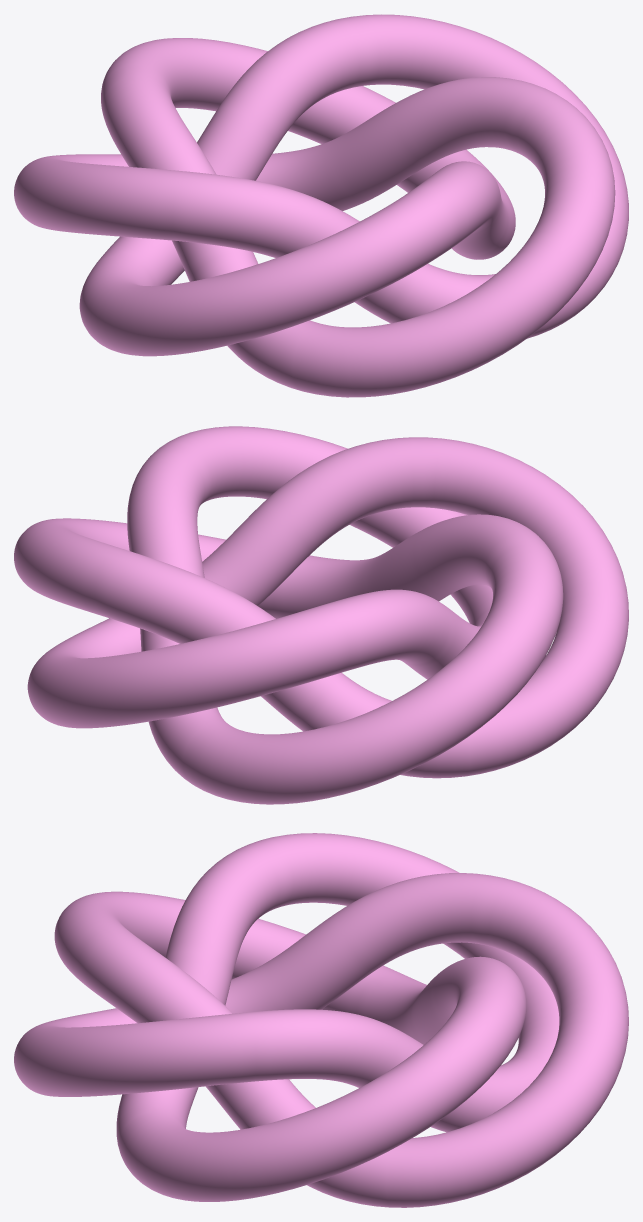
File: 35_torus_knot.glb
The picture shows the model from 3 angles, top to bottom: view 1: azimuth 30°, elevation 25°; view 2: azimuth 150°, elevation 25°; view 3: azimuth 270°, elevation 25°; orthographic projection.
Parts seen in each view (by area): view 1: Object_2; view 2: Object_2; view 3: Object_2.
Boxes of the visible parts, x1,y1,x2,y2 form: Object_2: (14, 14, 628, 397); Object_2: (14, 426, 628, 804); Object_2: (14, 833, 628, 1207).
Size of the model in its own units: 69.44 by 23.97 by 70.67.
